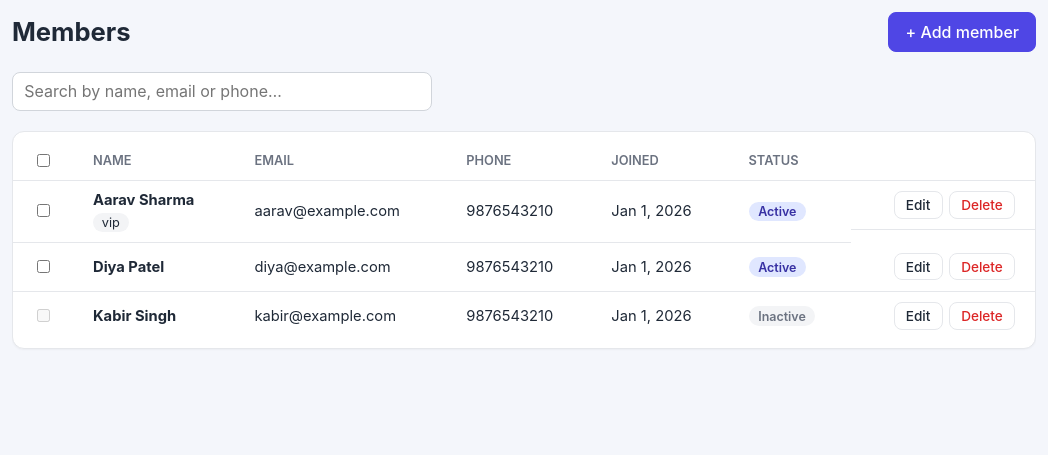
MembersPage › applies bulk tag remove to selected active members via API
This screenshot has width=1048, height=455.
Expected: the text "Aarav Sharma" is shown, [93,191,194,209]
Step 1. Click the checkbox named "Select Aarav Sharma" → (44, 211), box [37,204,50,218]
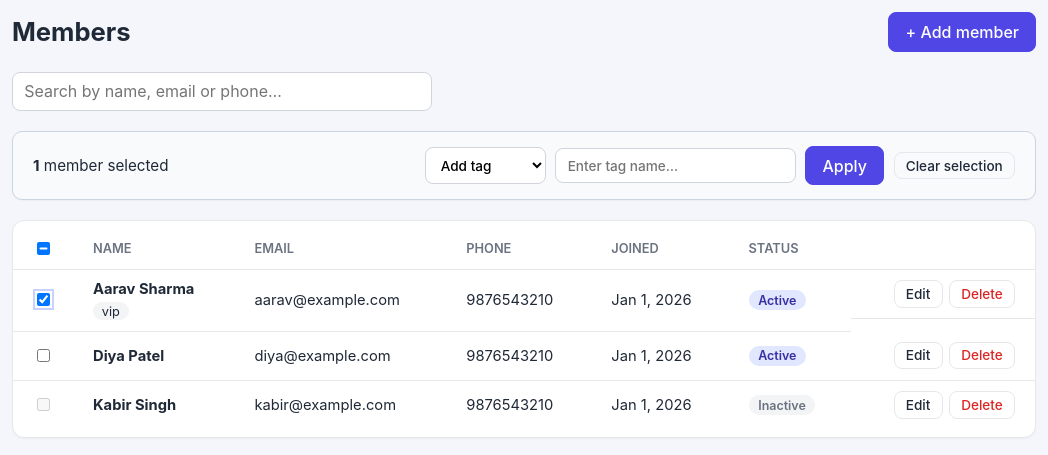
Step 2. Select "Remove tag" in the dropdown named "Tag action" → (485, 166), box [424,147,546,184]
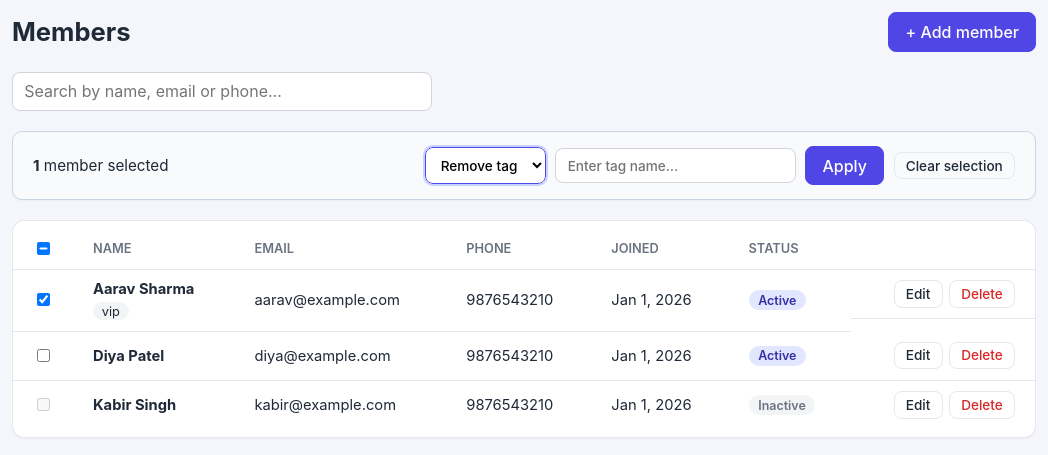
Step 3. Type "vip" into the field labelled "tag name" → (676, 166), box [556,148,796,183]
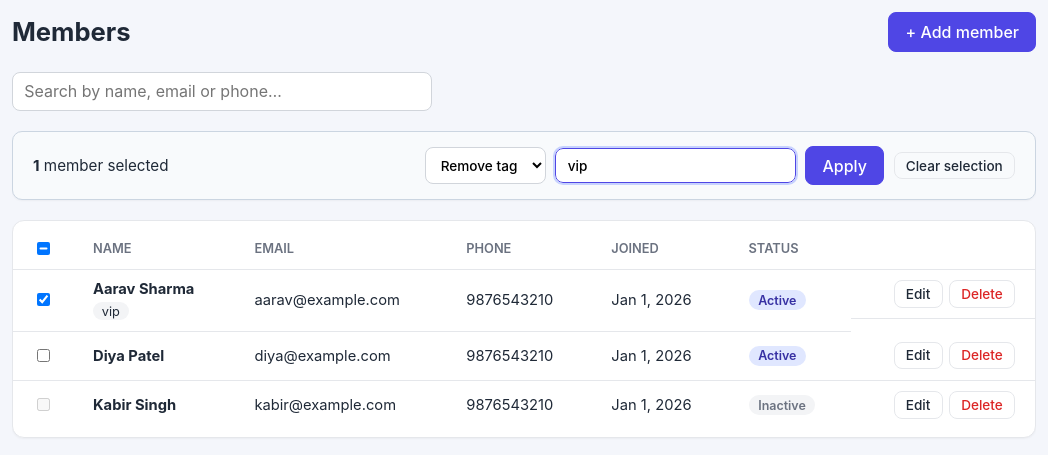
Step 4. Click the button "Apply" → (845, 166), box [805,146,884,185]
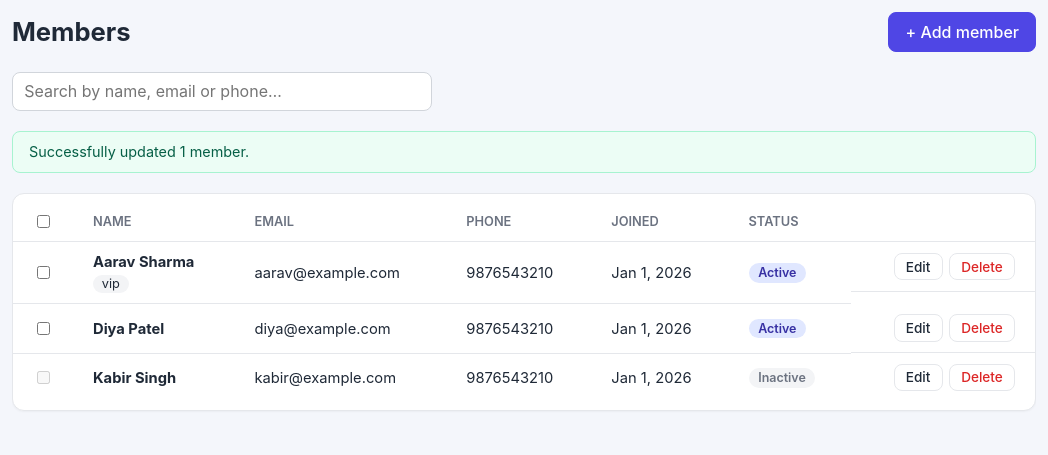
Expected: the message reads "Successfully updated 1 member.", [29,143,249,160]
